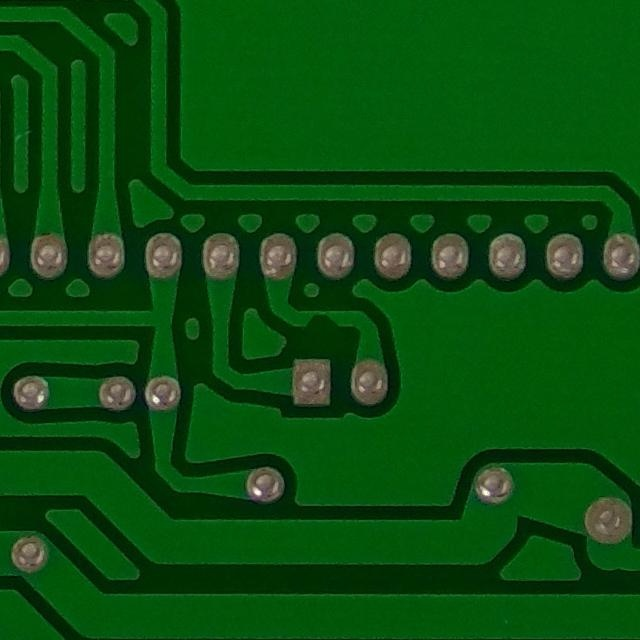mouse_bite: (292, 303, 348, 337)
